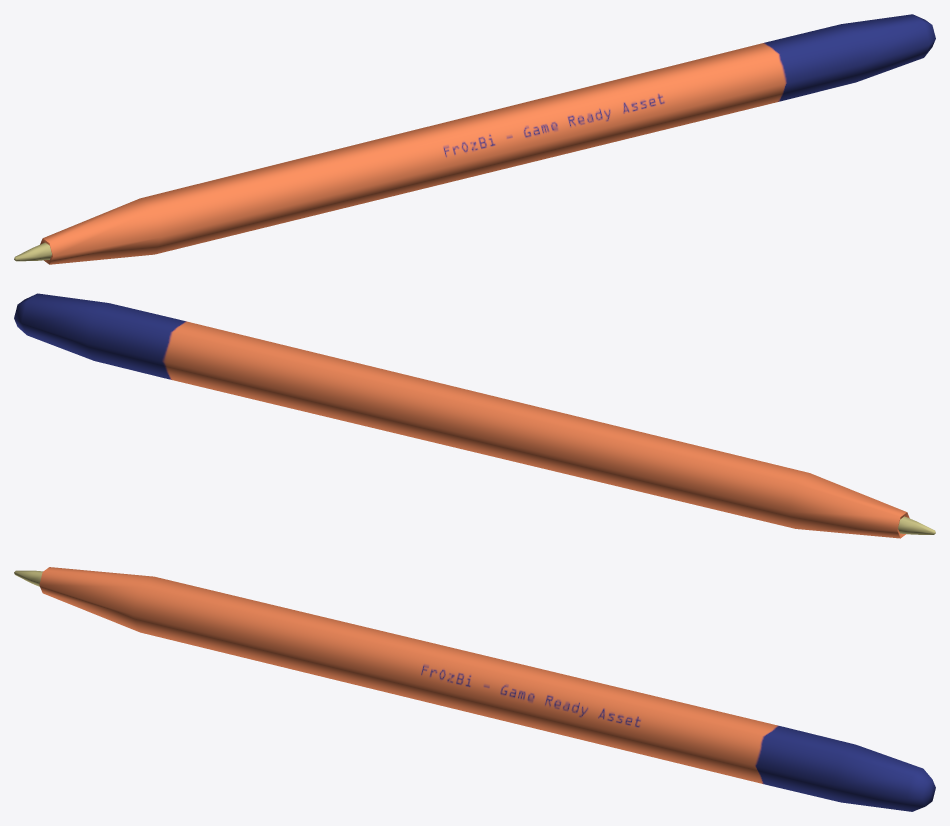
3 views of the same model, one above another, from view 1: azimuth 30°, elevation 25°; view 2: azimuth 150°, elevation 25°; view 3: azimuth 330°, elevation 25° (orthographic).
Visible parts, largest first — view 1: LP; view 2: LP; view 3: LP.
Part boxes in pixels (x1=…): LP: x1=14, y1=14, x2=935, y2=264; LP: x1=14, y1=293, x2=935, y2=538; LP: x1=14, y1=567, x2=935, y2=811.
Bounding box in the file's own units: 8.77 × 0.4356 × 0.5244.
Materials: 1 (1 with a texture image).
